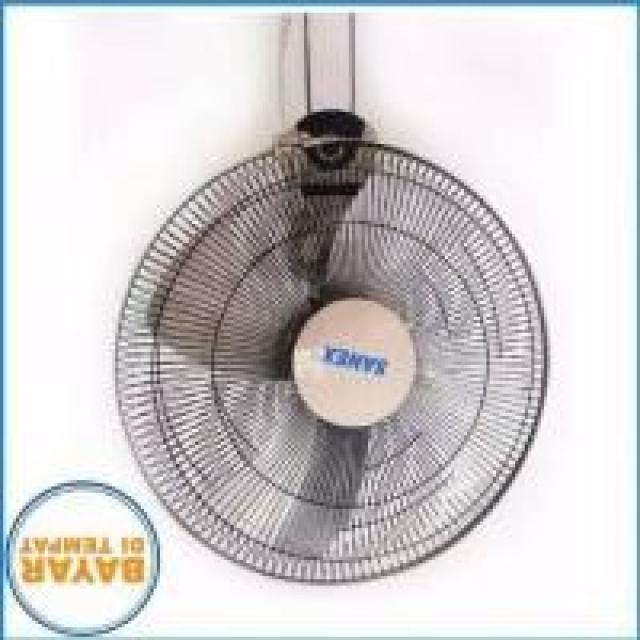fan: (96, 7, 563, 597)
